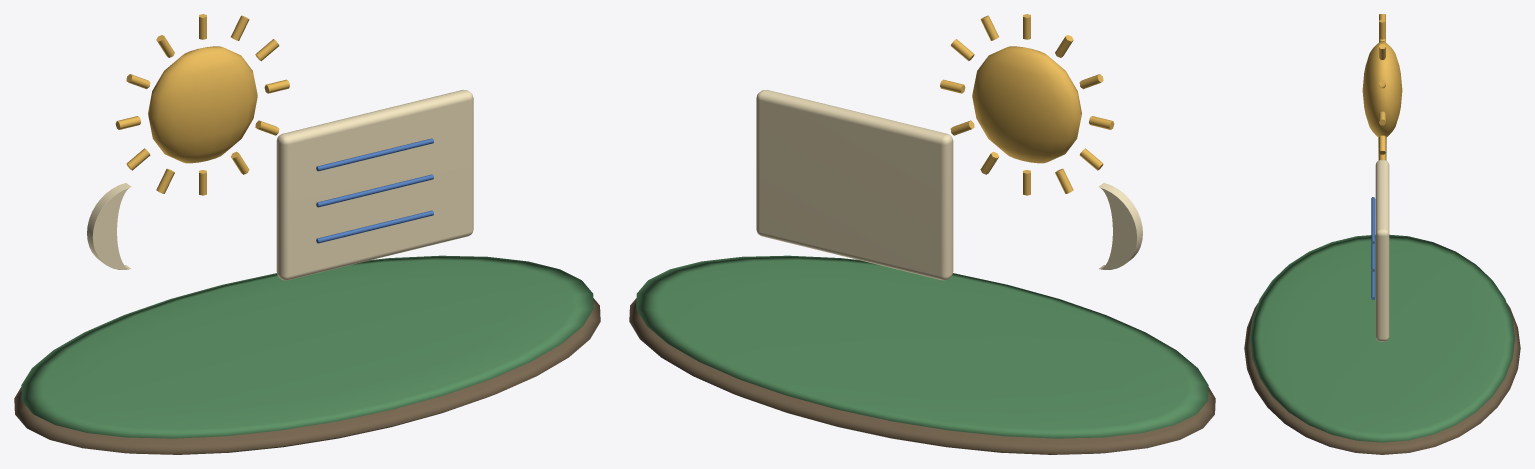
File: bright-understanding.glb
The picture shows the model from 3 angles, left to right: view 1: azimuth 30°, elevation 25°; view 2: azimuth 150°, elevation 25°; view 3: azimuth 270°, elevation 25°; orthographic projection. The views are drawn at different scales.
Visible parts, largest first — view 1: bright-understanding_surface_01, bright-understanding_surface_03, bright-understanding_surface_02, bright-understanding_surface_00, bright-understanding_surface_04; view 2: bright-understanding_surface_01, bright-understanding_surface_03, bright-understanding_surface_02, bright-understanding_surface_00; view 3: bright-understanding_surface_01, bright-understanding_surface_00, bright-understanding_surface_02, bright-understanding_surface_03, bright-understanding_surface_04.
Part boxes in pixels (box(x1,y1,x2,y2)): bright-understanding_surface_01: box(21, 255, 593, 438); bright-understanding_surface_03: box(87, 90, 473, 280); bright-understanding_surface_02: box(115, 14, 289, 195); bright-understanding_surface_00: box(14, 298, 600, 454); bright-understanding_surface_04: box(316, 138, 433, 243); bright-understanding_surface_01: box(636, 255, 1208, 438); bright-understanding_surface_03: box(756, 90, 1142, 280); bright-understanding_surface_02: box(940, 14, 1114, 195); bright-understanding_surface_00: box(629, 298, 1215, 454); bright-understanding_surface_01: box(1250, 234, 1514, 442); bright-understanding_surface_00: box(1244, 303, 1520, 454); bright-understanding_surface_02: box(1362, 14, 1402, 160); bright-understanding_surface_03: box(1375, 137, 1389, 341); bright-understanding_surface_04: box(1371, 197, 1375, 299).
Bounding box in the file's own units: 4.56 × 3 × 2.5.
